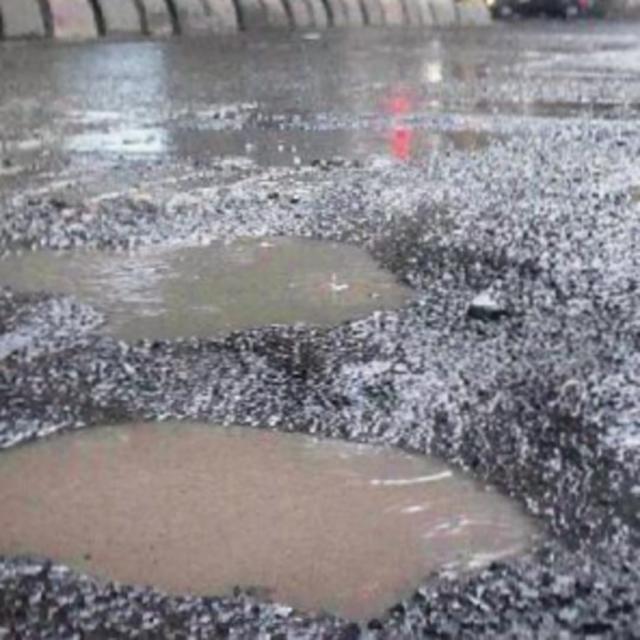pothole: (0, 407, 557, 640), (0, 210, 430, 344)
